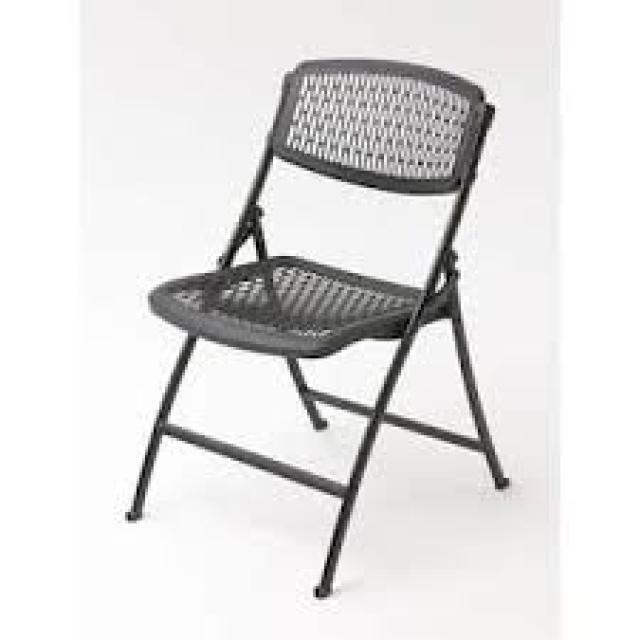chair: (96, 25, 554, 634)
